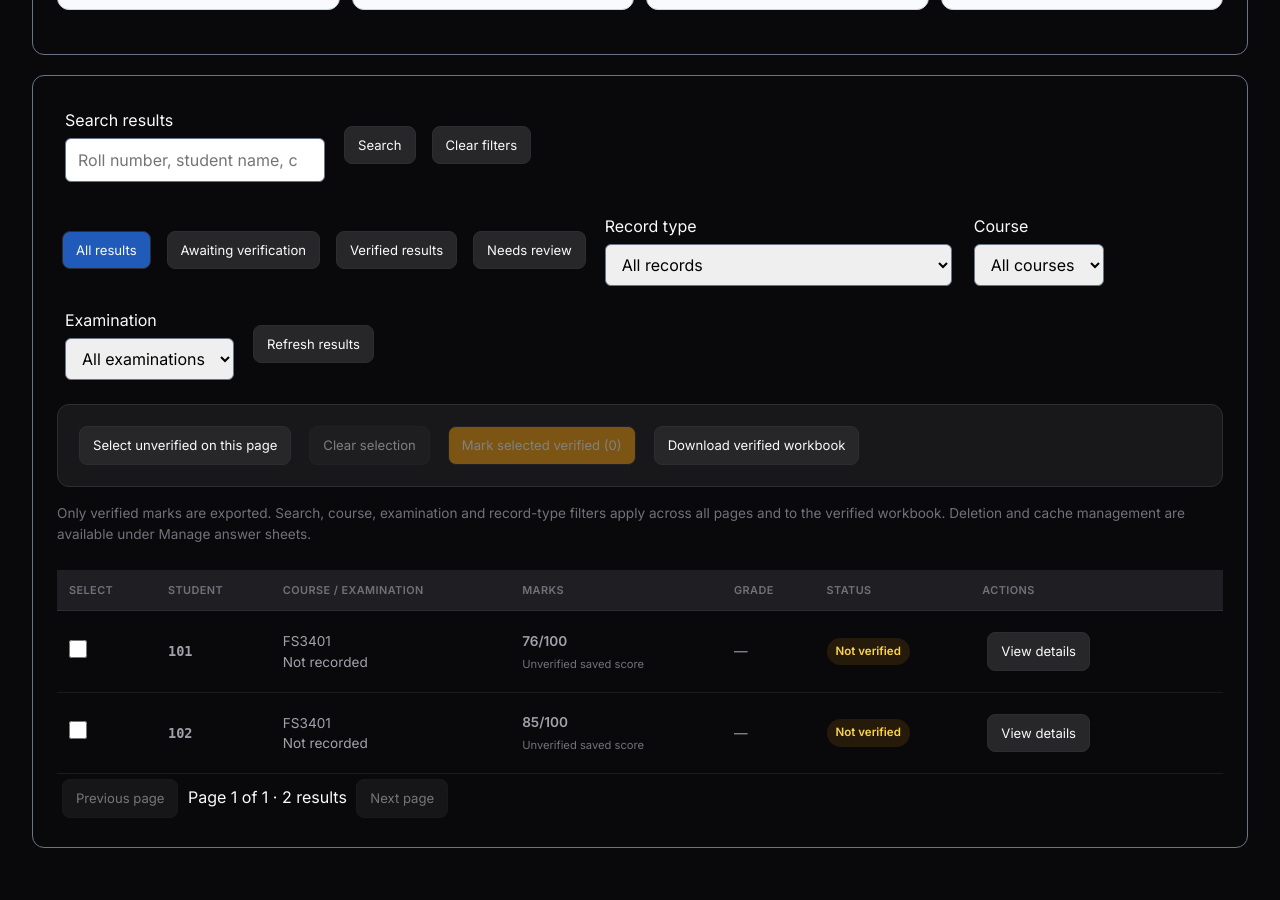
Test: a removed active result gives feedback instead of a silent details click
(page scrolled)
Expected: the text "85/100" is shown, top-left (522, 714), bottom-right (568, 730)
Click the button "View details" in the row of "102": (1039, 733) top-left (987, 714), bottom-right (1090, 752)
(page scrolled)
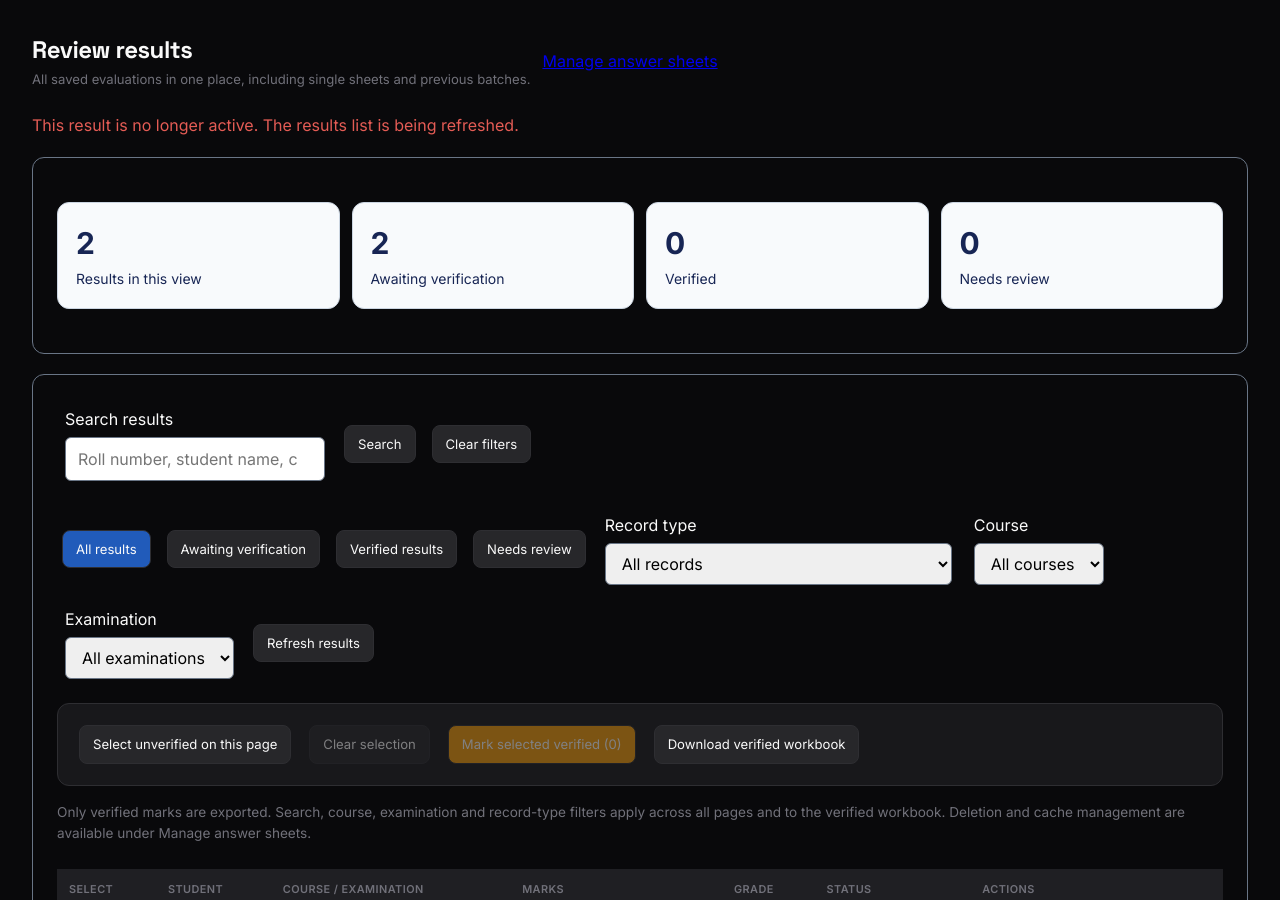
Expected: the message shows "no longer active", top-left (32, 115), bottom-right (519, 135)
